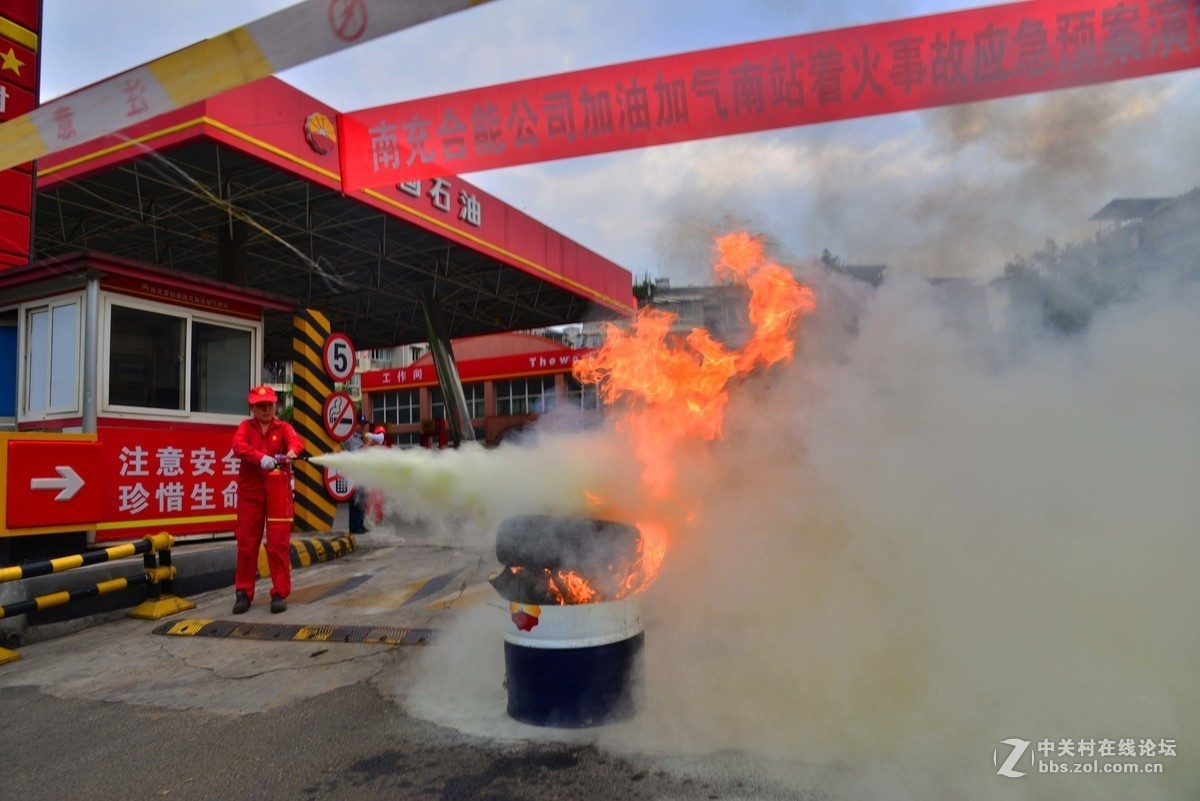fire: (556, 215, 820, 604)
